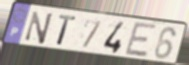4: (102, 20, 126, 55)
6: (153, 26, 179, 61)
7: (80, 18, 102, 49)
E: (124, 21, 159, 59)
N: (24, 10, 55, 46)
T: (55, 14, 78, 48)
